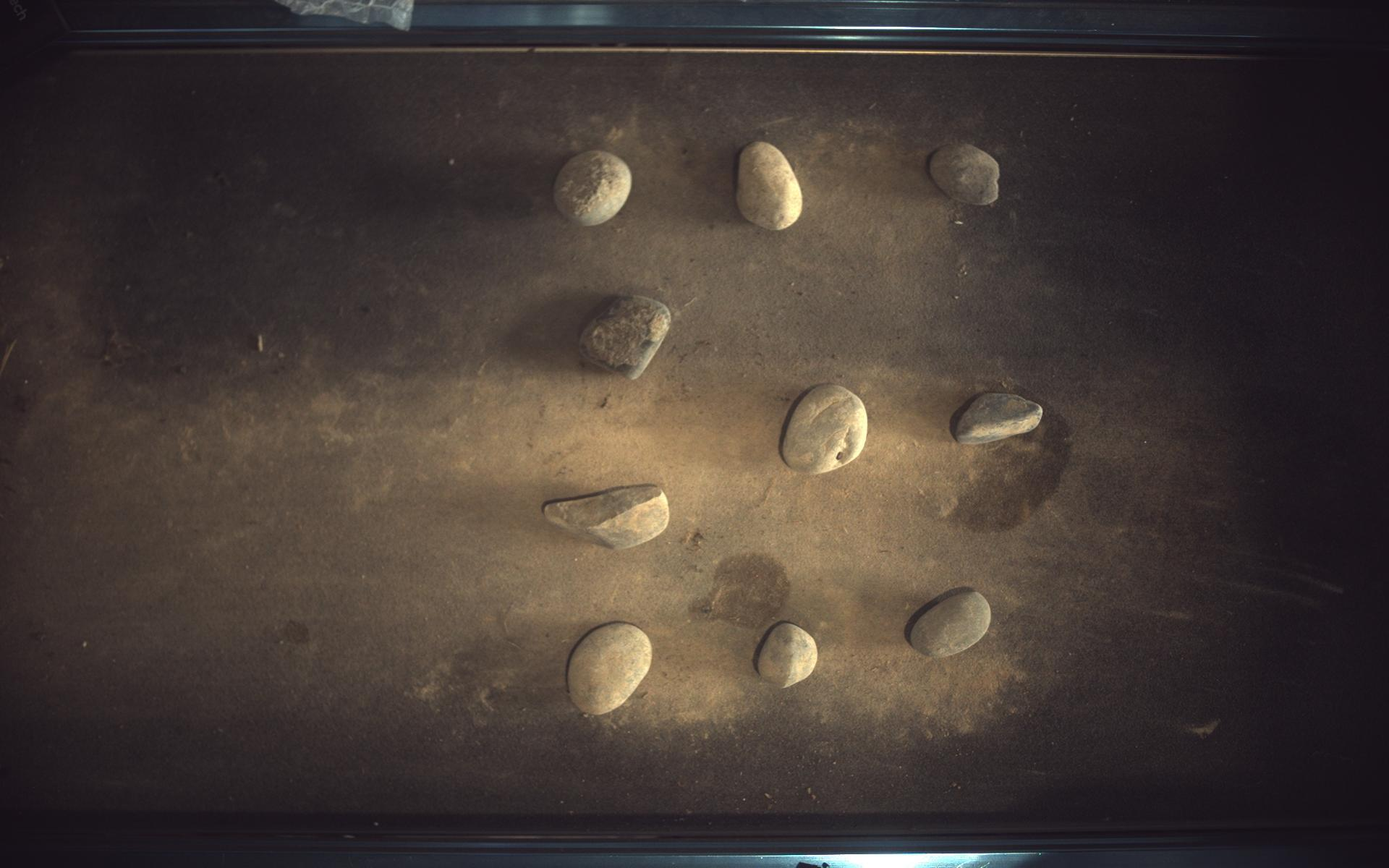stone: (543, 484, 668, 550), (568, 624, 653, 716), (579, 295, 672, 379), (783, 385, 869, 475), (906, 587, 993, 659), (554, 150, 632, 226), (738, 140, 804, 229), (957, 393, 1045, 445), (931, 142, 1002, 205), (757, 623, 819, 689)
